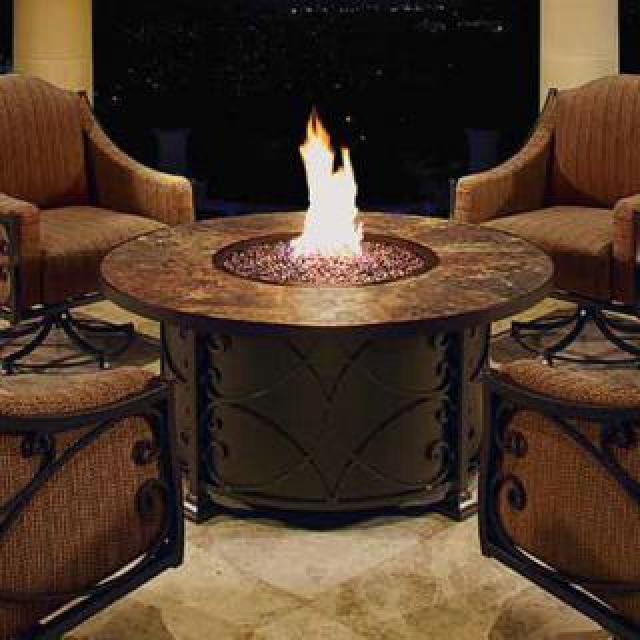Fire: (292, 96, 364, 256)
